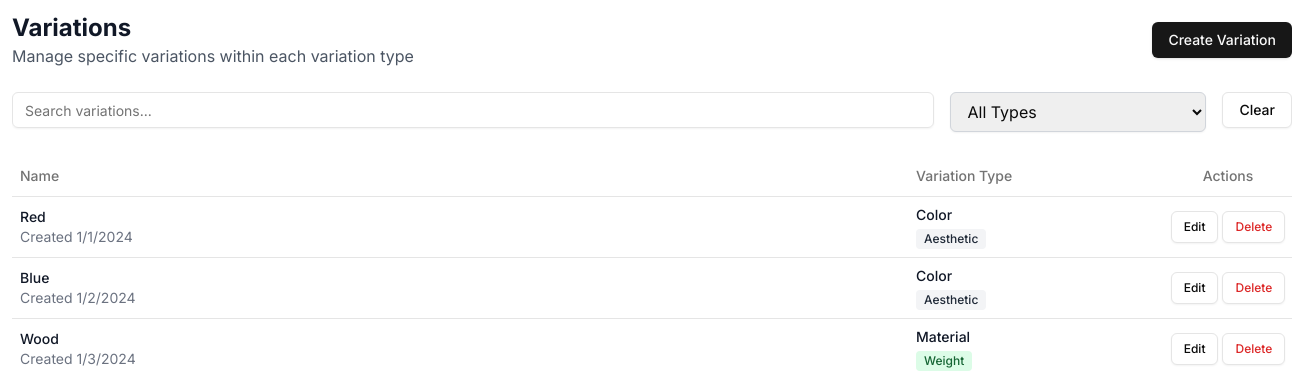
Test: VariationList › clears all filters when clear button is clicked
This screenshot has width=1304, height=388.
Type "Red" into the field with placeholder "Search variations..." at (473, 110), box left=12, top=92, right=934, bottom=128
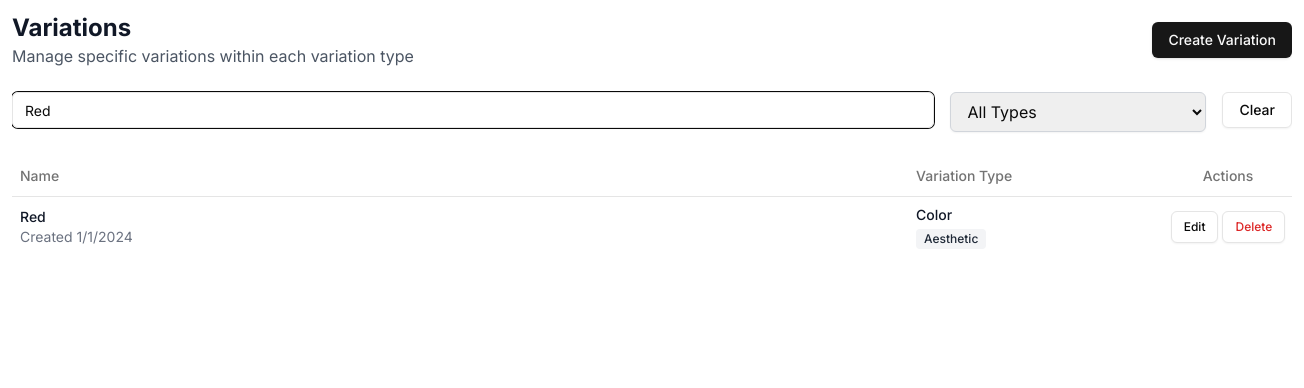
Select "Color" in the dropdown showing "All Types" at (1078, 112), box left=950, top=92, right=1206, bottom=132
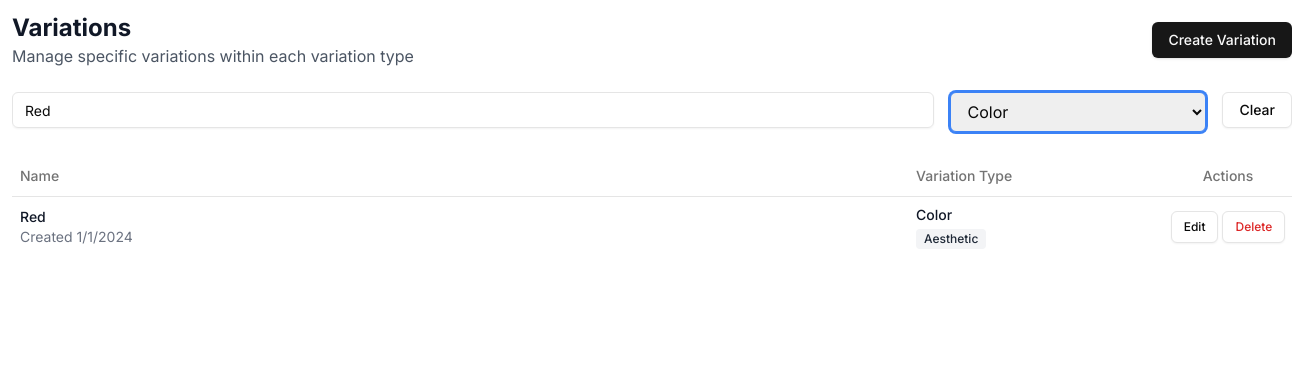
Click the button "Clear" at (1257, 110), box left=1222, top=92, right=1292, bottom=128
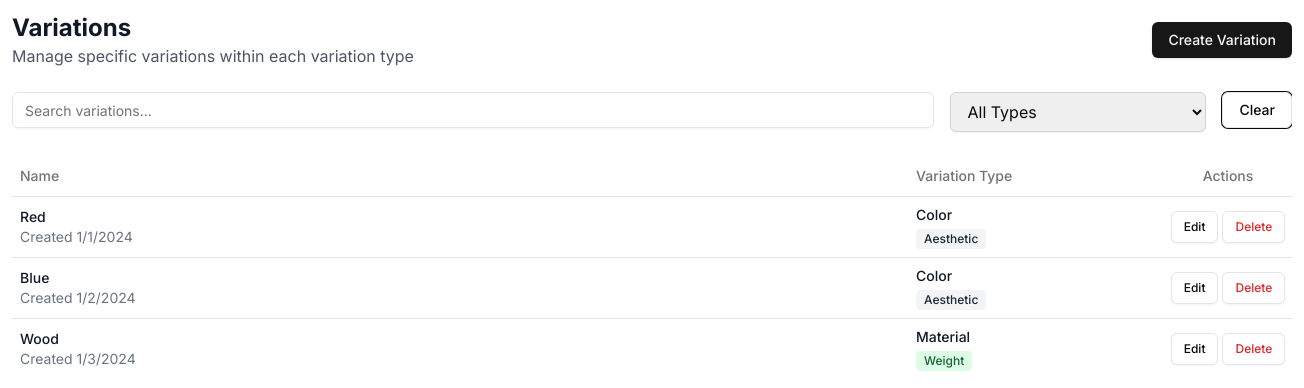
Expected: the field with placeholder "Search variations..." is empty, left=12, top=92, right=934, bottom=128
